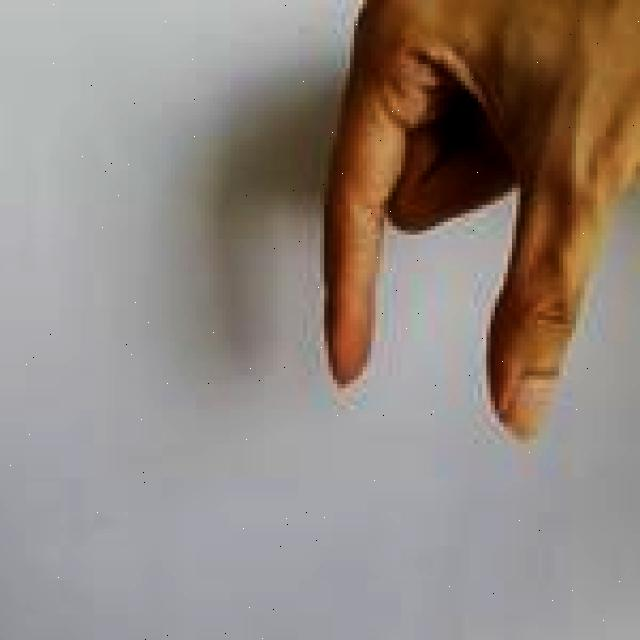Q: (304, 0, 640, 458)
